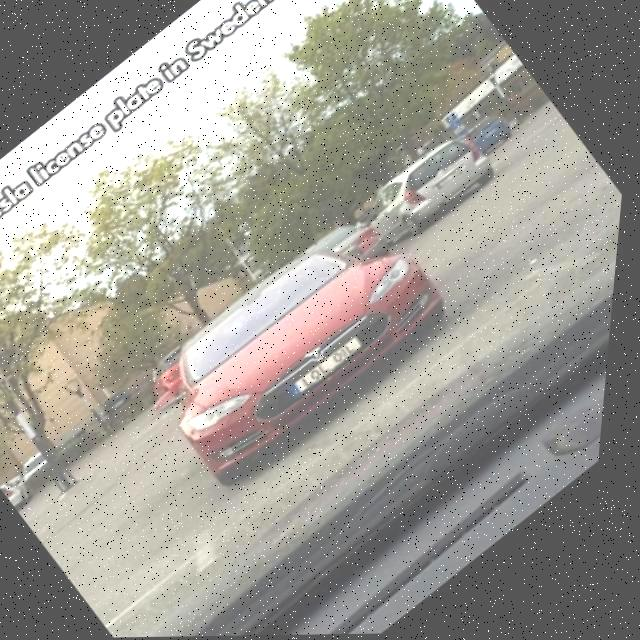license_plate: (298, 334, 371, 396)
